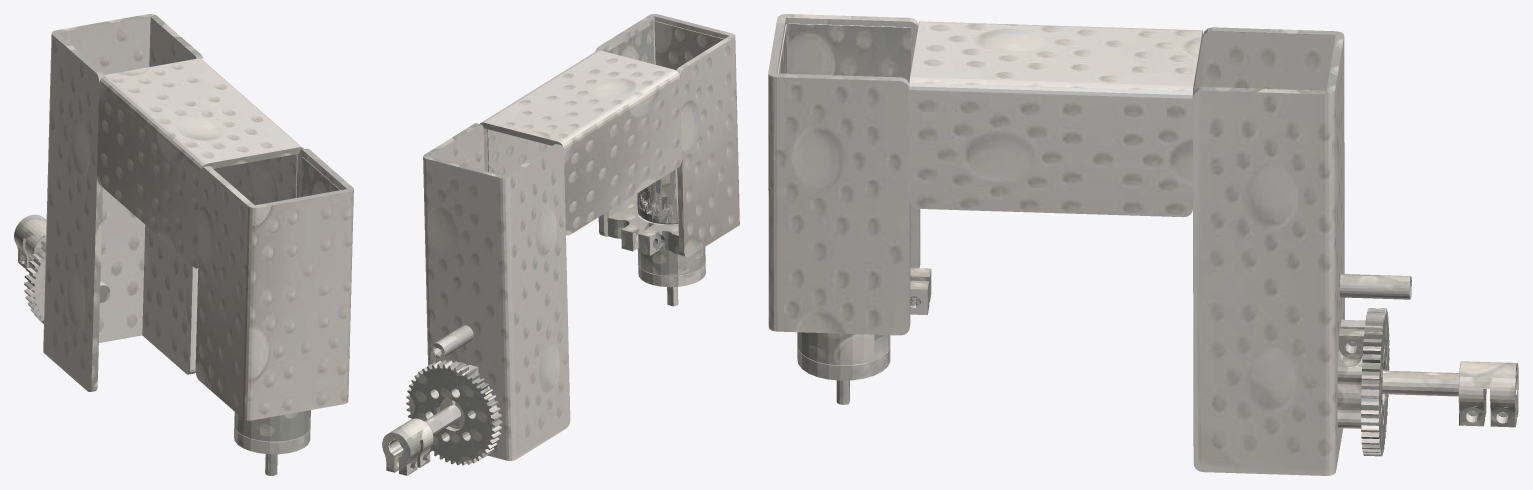
File: corner_rf.dae
The picture shows the model from 3 angles, left to right: view 1: azimuth 30°, elevation 25°; view 2: azimuth 150°, elevation 25°; view 3: azimuth 270°, elevation 25°; orthographic projection. The views are drawn at different scales.
Parts seen in each view (by area): view 1: corner_rf; view 2: corner_rf; view 3: corner_rf.
Part boxes in pixels (x1,y1,x2,y2): corner_rf: [14, 14, 353, 475]; corner_rf: [382, 14, 739, 475]; corner_rf: [768, 14, 1518, 475].
Bounding box in the file's own units: 0.0509 × 0.2012 × 0.1156.
Materials: 1 (1 with a texture image).
